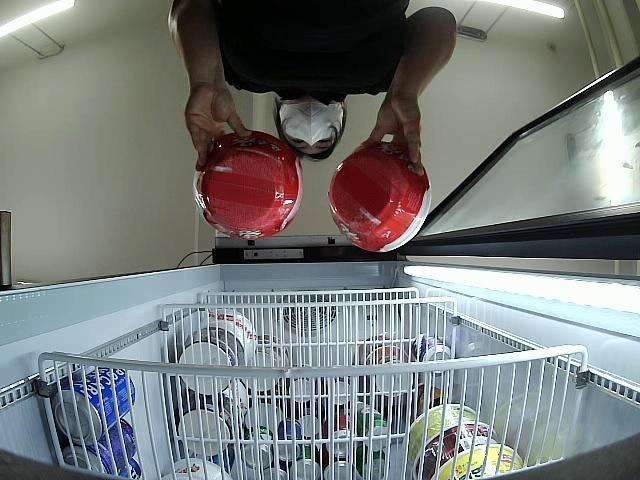10_wangTtukkeong: (193, 132, 302, 240), (329, 146, 429, 253)
